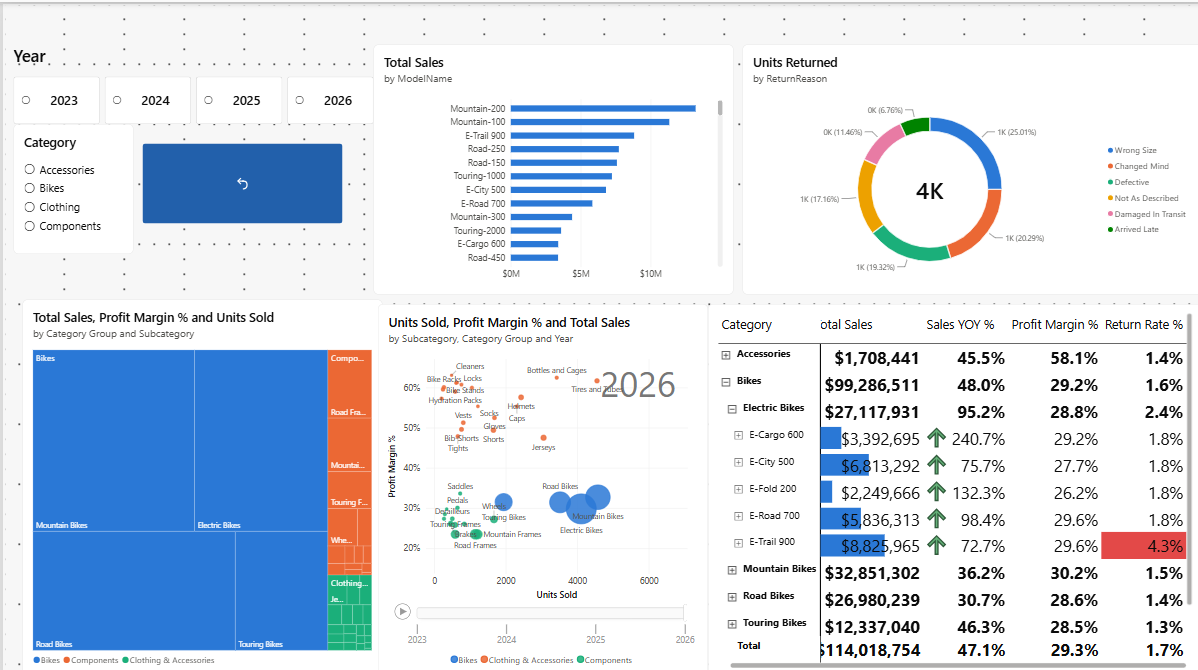

The page's visual inventory and layout, read from the dashboard file:
{"tool":"powerbi","page":{"name":"Products & Returns","canvas":[1920,1080],"ordinal":2},"visuals":[{"type":"advancedSlicerVisual","fields":{"Values":["Date.Year"]},"box":[16,64,576,128],"z":0},{"type":"listSlicer","fields":{"Values":["Products.Category"]},"box":[16,192,192,208],"z":1000},{"type":"treemap","fields":{"Group":["Products.Clothing & Accessories"],"Details":["Products.Subcategory"],"Values":["_Measures.Total Sales"]},"box":[32,472,576,608],"z":2000},{"type":"scatterChart","fields":{"Category":["Products.Subcategory"],"X":["_Measures.Units Sold"],"Y":["_Measures.Profit Margin %"],"Size":["_Measures.Total Sales"],"Series":["Products.Category Group"],"Play":["Date.Year"]},"box":[592,472,576,608],"z":3000},{"type":"clusteredBarChart","fields":{"Category":["Products.ModelName"],"Y":["_Measures.Total Sales"]},"box":[592,64,576,400],"z":4000},{"type":"donutChart","fields":{"Category":["Returns.ReturnReason"],"Y":["_Measures.Units Returned"]},"box":[1184,64,736,400],"z":5000},{"type":"pivotTable","fields":{"Rows":["Products.Product Hierarchy.Category","Products.Product Hierarchy.Subcategory","Products.Product Hierarchy.ModelName","Products.Product Hierarchy.ProductName"],"Values":["_Measures.Total Sales","_Measures.Sales YOY %","_Measures.Profit Margin %","_Measures.Return Rate %"]},"box":[1184,472,736,608],"z":6000},{"type":"actionButton","box":[224,224,320,128],"z":7000}]}

Visuals, with their boxes in screenshot pixels (x1, y1, x2, y2), scaled from the page's 1920x1080 canvas onto the 1198x670 screenshot:
advancedSlicerVisual - Date.Year: <box>10,40,369,119</box>
listSlicer - Products.Category: <box>10,119,130,248</box>
treemap - Products.Clothing & Accessories x Products.Subcategory: <box>20,293,379,669</box>
scatterChart - Products.Subcategory x _Measures.Units Sold: <box>369,293,729,669</box>
clusteredBarChart - Products.ModelName x _Measures.Total Sales: <box>369,40,729,288</box>
donutChart - Returns.ReturnReason x _Measures.Units Returned: <box>739,40,1197,288</box>
pivotTable - Products.Product Hierarchy.Category x Products.Product Hierarchy.Subcategory: <box>739,293,1197,669</box>
actionButton: <box>140,139,339,218</box>
